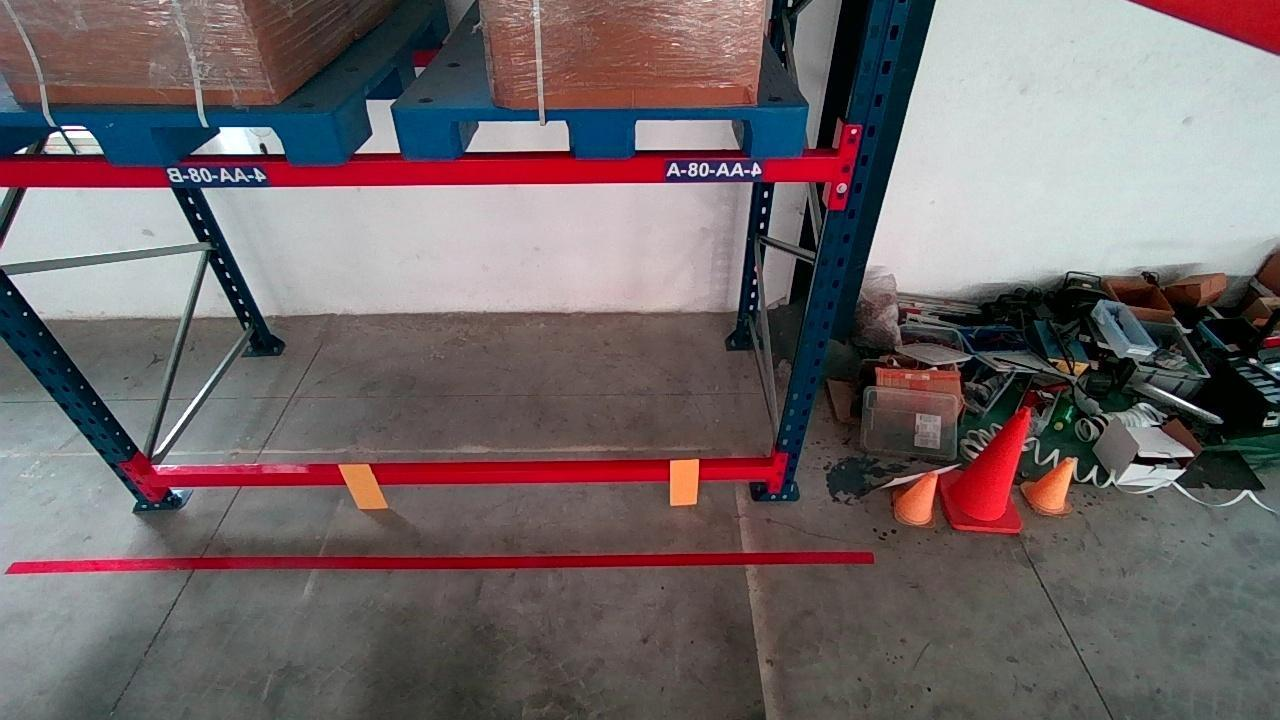h_rack: (15, 146, 832, 199), (154, 458, 769, 491)
orange_strip: (340, 463, 387, 507), (669, 456, 700, 504)
red_line: (19, 544, 872, 582)
small_pallet: (404, 105, 809, 156), (2, 108, 339, 165)
